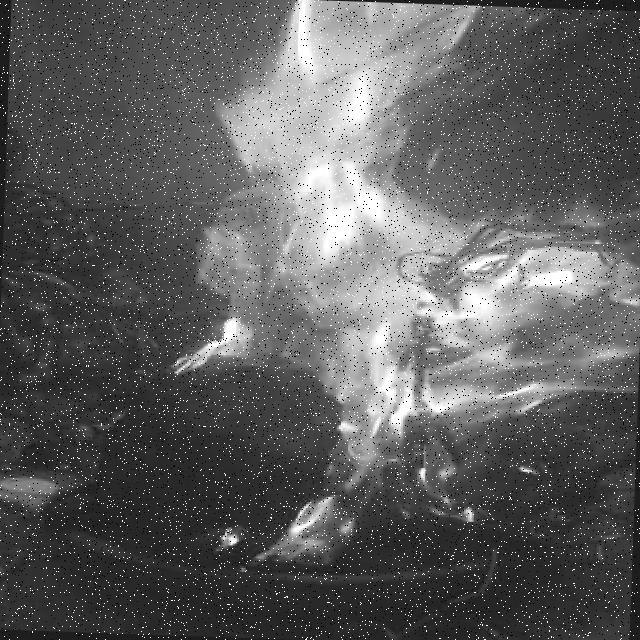Fire: (168, 0, 640, 570)
